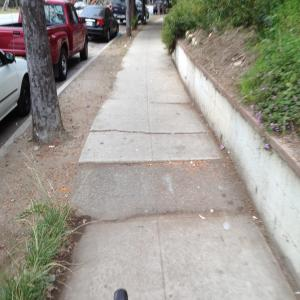Vehicle-registration-plate: (87, 21, 94, 29)
